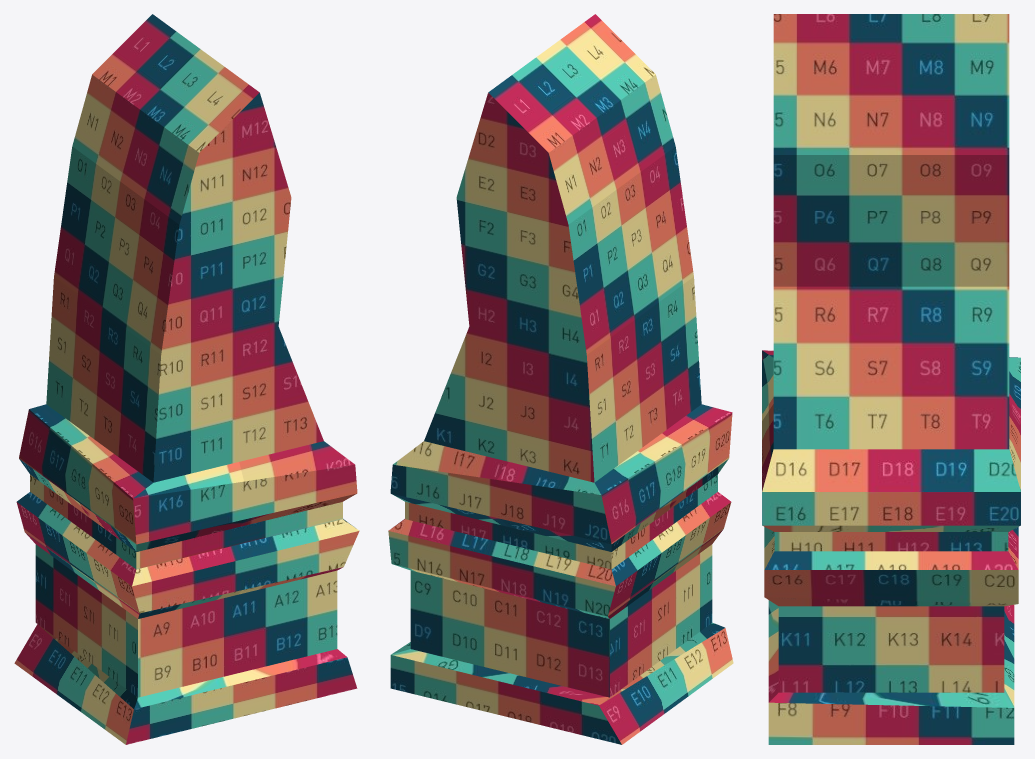
Rendered from Piliier_01_low.FBX.
3 views of the same model, side by side, from view 1: azimuth 30°, elevation 25°; view 2: azimuth 150°, elevation 25°; view 3: azimuth 270°, elevation 25° (orthographic). The views are drawn at different scales.
Parts seen in each view (by area): view 1: Pilier_01; view 2: Pilier_01; view 3: Pilier_01.
Boxes of the visible parts, <box> form: Pilier_01: <box>14,14,359,744</box>; Pilier_01: <box>388,14,733,744</box>; Pilier_01: <box>762,14,1020,744</box>.
Size of the model in its own units: 1.58 by 4.02 by 1.39.
